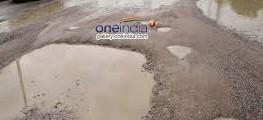pothole: (0, 29, 155, 120), (190, 0, 263, 42), (164, 38, 199, 66), (155, 18, 178, 38), (208, 111, 248, 120)
